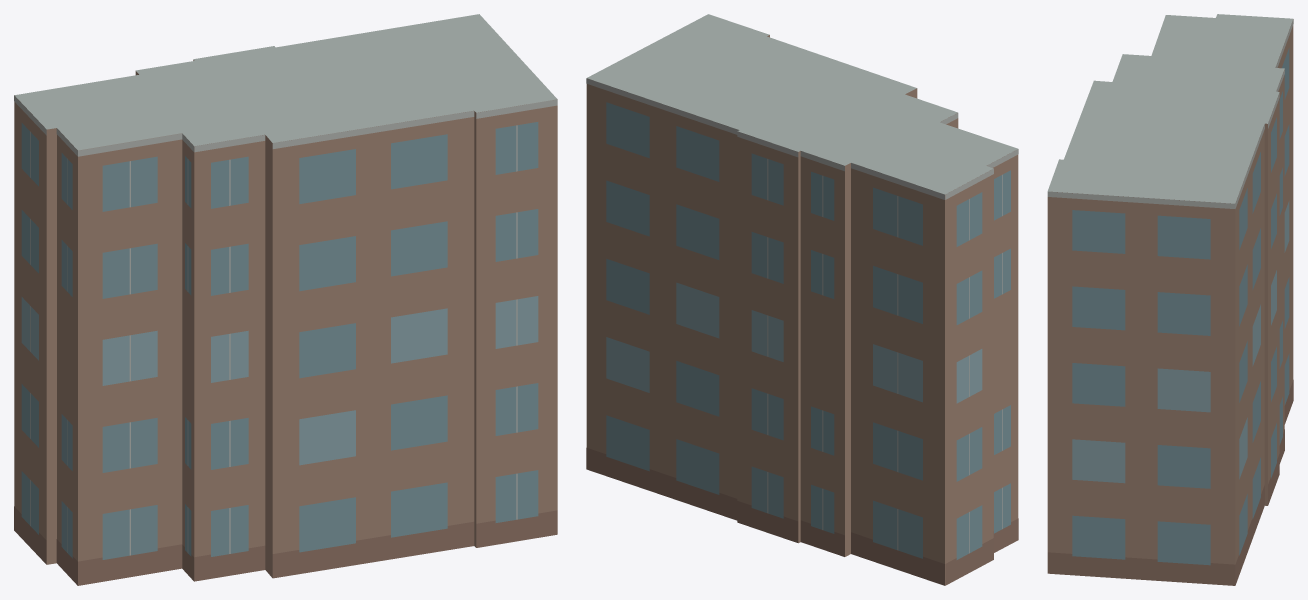
Rendered from survey-upis-32994400.glb.
3 views of the same model, side by side, from view 1: azimuth 30°, elevation 25°; view 2: azimuth 150°, elevation 25°; view 3: azimuth 270°, elevation 25° (orthographic). The views are drawn at different scales.
Visible parts, largest first — view 1: survey-upis-32994400.tmp; view 2: survey-upis-32994400.tmp; view 3: survey-upis-32994400.tmp.
Boxes of the visible parts, x1,y1,x2,y2 form: survey-upis-32994400.tmp: [14, 14, 557, 585]; survey-upis-32994400.tmp: [586, 14, 1018, 585]; survey-upis-32994400.tmp: [1047, 14, 1293, 585].
Bounding box in the file's own units: 18.32 × 17.2 × 10.04.
